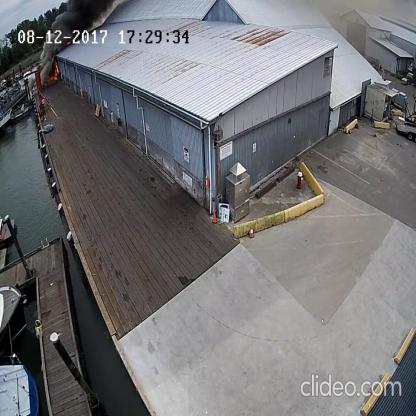fire: (49, 60, 59, 82)
